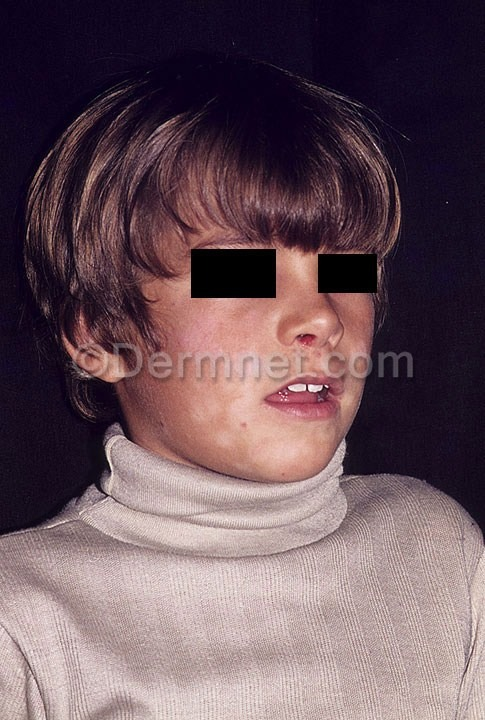Eczema: (163, 305, 264, 453), (265, 422, 335, 465)
